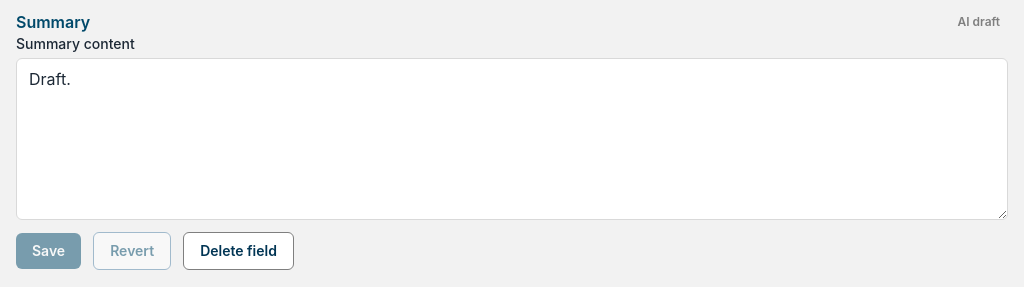
Test case: ReportFieldCard › reverts the draft back to the saved content
Type " changed" into the text box labelled "Summary content". click: [512, 139]
box: [16, 58, 1008, 220]
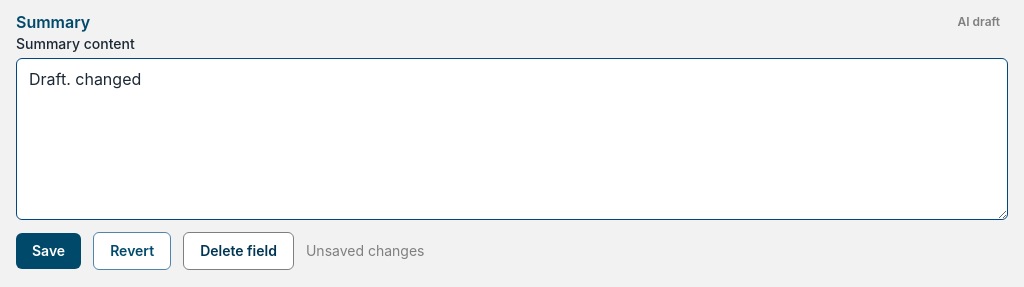
Click the button "Revert". click: [132, 251]
box: [93, 232, 171, 270]
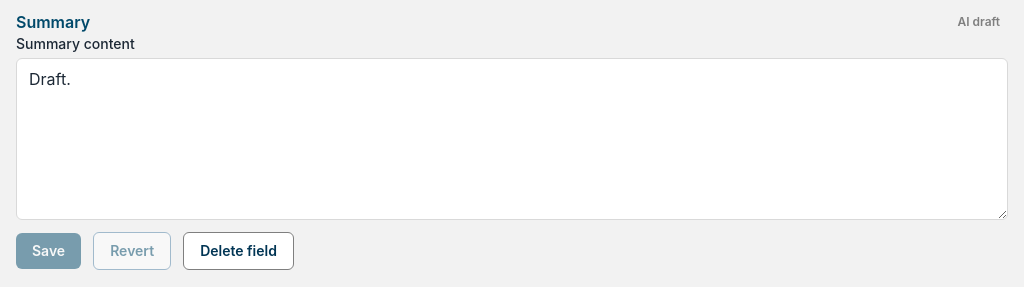
Check: the text box labelled "Summary content" holds "Draft.", box [16, 58, 1008, 220]
Check: the text "Unsaved changes" is gone
